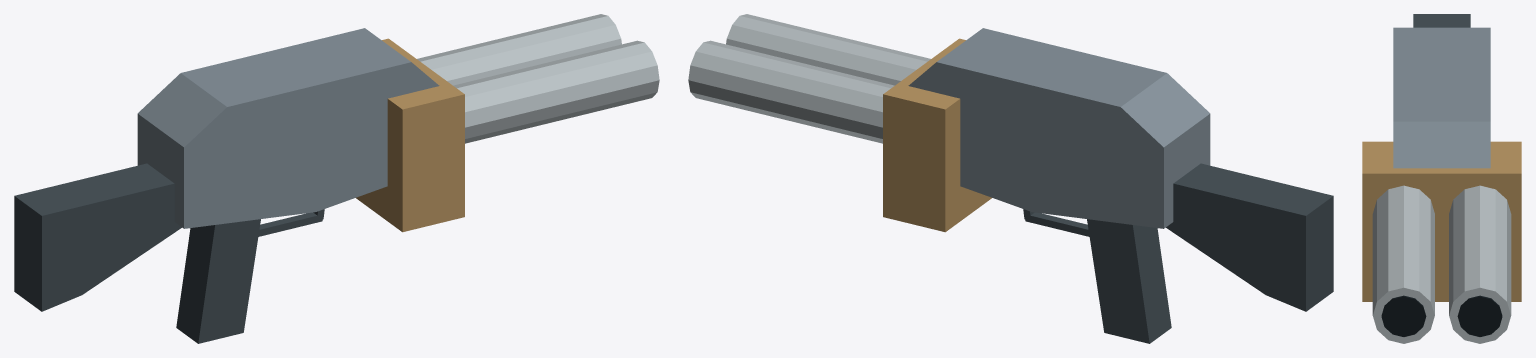
The model's file is w05-grave-bell-static.glb.
The picture shows the model from 3 angles, left to right: view 1: azimuth 30°, elevation 25°; view 2: azimuth 150°, elevation 25°; view 3: azimuth 270°, elevation 25°; orthographic projection. The views are drawn at different scales.
Parts seen in each view (by area): view 1: w05-grave-bell__receiver.001, w05-grave-bell__stock.001, w05-grave-bell__left_barrel.001, w05-grave-bell__breech.001, w05-grave-bell__grip.001, w05-grave-bell__right_barrel.001, w05-grave-bell__guard_bottom.001; view 2: w05-grave-bell__receiver.001, w05-grave-bell__stock.001, w05-grave-bell__right_barrel.001, w05-grave-bell__breech.001, w05-grave-bell__grip.001, w05-grave-bell__left_barrel.001, w05-grave-bell__guard_bottom.001; view 3: w05-grave-bell__receiver.001, w05-grave-bell__breech.001, w05-grave-bell__left_barrel.001, w05-grave-bell__right_barrel.001, w05-grave-bell__left_barrel_bore.001, w05-grave-bell__right_barrel_bore.001, w05-grave-bell__stock.001.
Boxes of the visible parts, box(x1,y1,x2,y2) form: w05-grave-bell__receiver.001: box(137, 28, 439, 228); w05-grave-bell__stock.001: box(14, 163, 181, 311); w05-grave-bell__left_barrel.001: box(453, 40, 659, 143); w05-grave-bell__breech.001: box(356, 38, 464, 232); w05-grave-bell__grip.001: box(176, 219, 260, 343); w05-grave-bell__right_barrel.001: box(417, 14, 621, 85); w05-grave-bell__guard_bottom.001: box(258, 212, 322, 236); w05-grave-bell__receiver.001: box(908, 28, 1210, 228); w05-grave-bell__stock.001: box(1166, 163, 1333, 311); w05-grave-bell__right_barrel.001: box(688, 40, 894, 143); w05-grave-bell__breech.001: box(883, 38, 991, 232); w05-grave-bell__grip.001: box(1087, 219, 1171, 343); w05-grave-bell__left_barrel.001: box(726, 14, 930, 85); w05-grave-bell__guard_bottom.001: box(1025, 212, 1089, 236); w05-grave-bell__receiver.001: box(1393, 27, 1490, 168); w05-grave-bell__breech.001: box(1362, 141, 1521, 301); w05-grave-bell__left_barrel.001: box(1372, 185, 1434, 343); w05-grave-bell__right_barrel.001: box(1449, 185, 1511, 343); w05-grave-bell__left_barrel_bore.001: box(1381, 295, 1426, 336); w05-grave-bell__right_barrel_bore.001: box(1457, 295, 1502, 336); w05-grave-bell__stock.001: box(1413, 14, 1470, 27).
Size of the model in its own units: 0.819 by 0.315 by 0.18.
